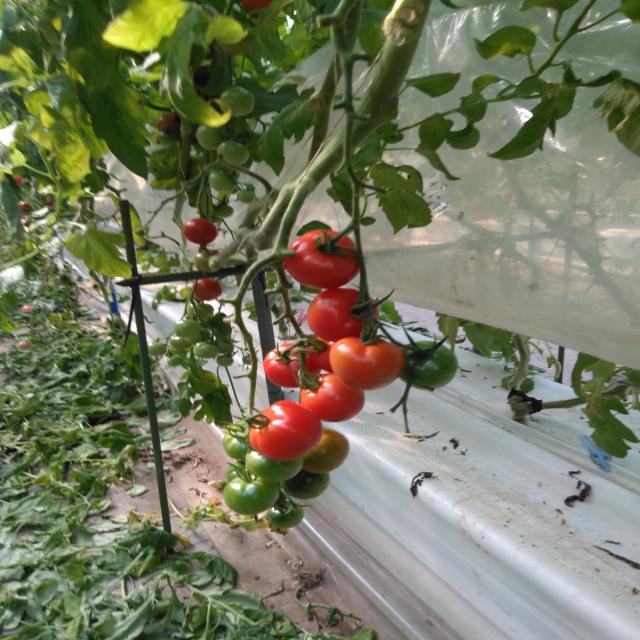c-half-riped: (328, 336, 404, 391), (303, 425, 350, 474)
c-riped: (284, 229, 360, 290), (249, 400, 323, 461), (306, 287, 378, 343), (299, 372, 366, 423), (263, 342, 321, 389), (182, 218, 218, 244), (311, 337, 335, 373), (191, 278, 223, 301)
c-unriped: (399, 341, 458, 392), (223, 473, 281, 516), (247, 451, 304, 482), (280, 469, 330, 501), (222, 416, 255, 461), (218, 85, 255, 118), (266, 500, 304, 529), (196, 123, 230, 150), (217, 138, 249, 166), (208, 167, 237, 193), (193, 251, 223, 273), (226, 460, 251, 484), (187, 302, 214, 320), (174, 320, 201, 338), (192, 342, 218, 358), (170, 335, 193, 349), (214, 338, 234, 354), (214, 205, 234, 218), (238, 189, 256, 203), (148, 342, 167, 355), (216, 355, 233, 367), (167, 354, 184, 366)
